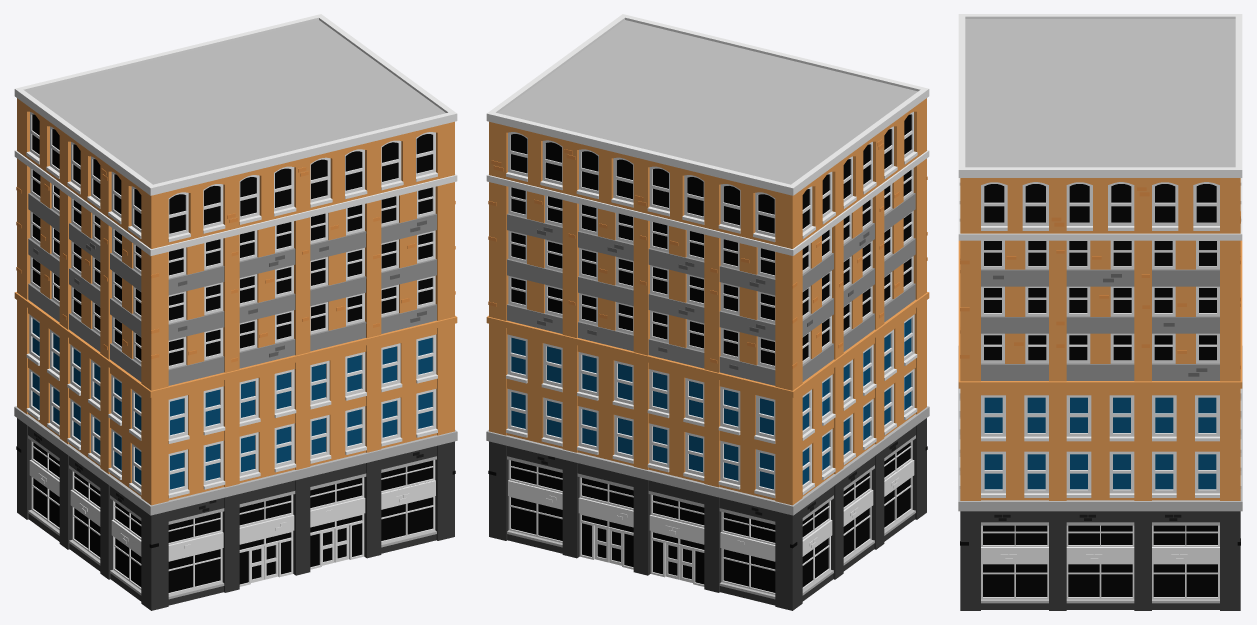
3 views of the same model, side by side, from view 1: azimuth 30°, elevation 25°; view 2: azimuth 150°, elevation 25°; view 3: azimuth 270°, elevation 25° (orthographic). The views are drawn at different scales.
Visible parts, largest first — view 1: Building; view 2: Building; view 3: Building.
Boxes of the visible parts, left/top/right/bottom form: Building: left=14, top=14, right=457, bottom=610; Building: left=486, top=14, right=929, bottom=610; Building: left=958, top=14, right=1242, bottom=610.
Size of what is drawn, in the model's own units: 21.32 by 28.1 by 16.4.
